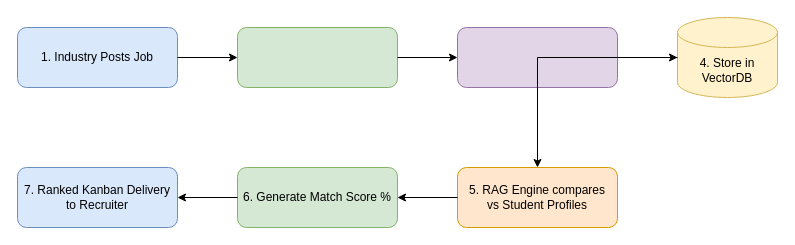
This 795x245 diagram has some shape labels left out. Each missing label, with the box of its shape:
2. Backend Extract Keywords (Groq LLM): (236, 26, 398, 88)
3. Generate Embeddings (HuggingFace): (456, 26, 618, 88)
